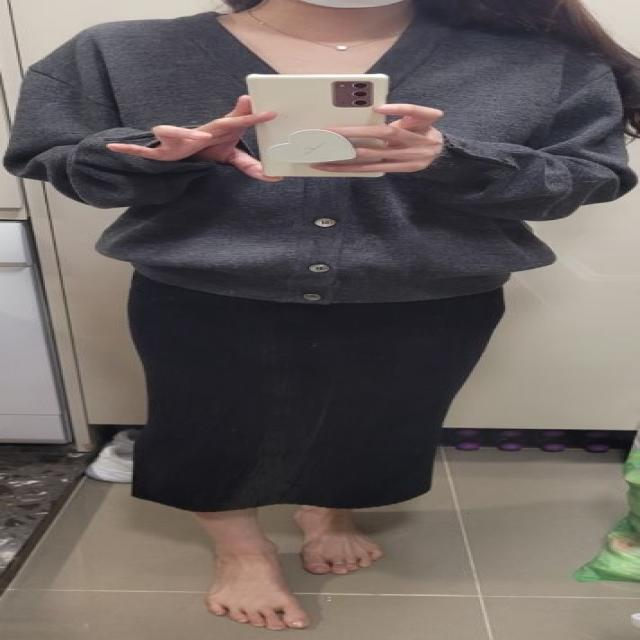cardigan: (2, 3, 640, 300)
skirt: (128, 252, 506, 509)
